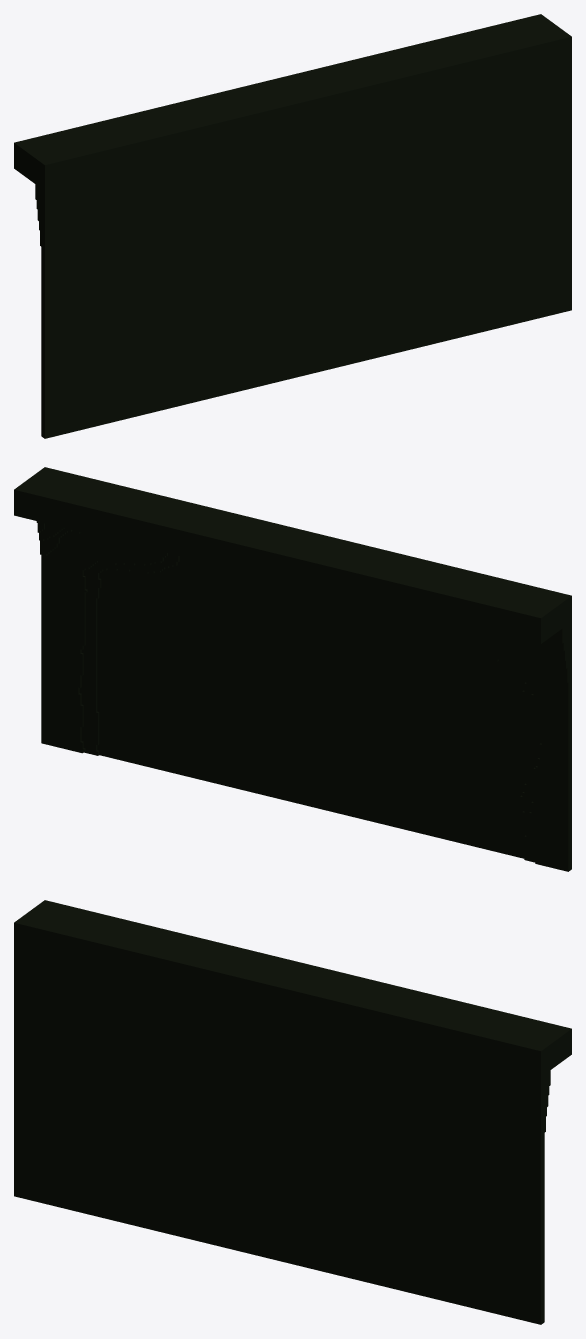
The model's file is BigWall.glb.
3 renders of one model, top to bottom at view 1: azimuth 30°, elevation 25°; view 2: azimuth 150°, elevation 25°; view 3: azimuth 330°, elevation 25°, orthographic.
Parts seen in each view (by area): view 1: Untitled.020, Untitled.021; view 2: Untitled.020, Untitled.021; view 3: Untitled.020, Untitled.021.
Part boxes in pixels (x1,y1,x2,y2): Untitled.020: [41, 127, 571, 438]; Untitled.021: [14, 14, 571, 255]; Untitled.020: [41, 560, 571, 871]; Untitled.021: [14, 467, 571, 688]; Untitled.020: [14, 1013, 544, 1324]; Untitled.021: [14, 900, 571, 1141].
Size of the model in its own units: 25.6 by 12.7 by 2.6.
2 materials, 2 textured.
